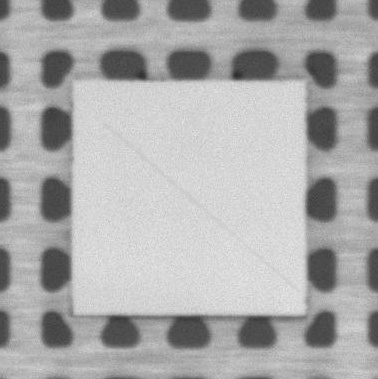DIE_CRACK: (105, 124, 298, 292)
